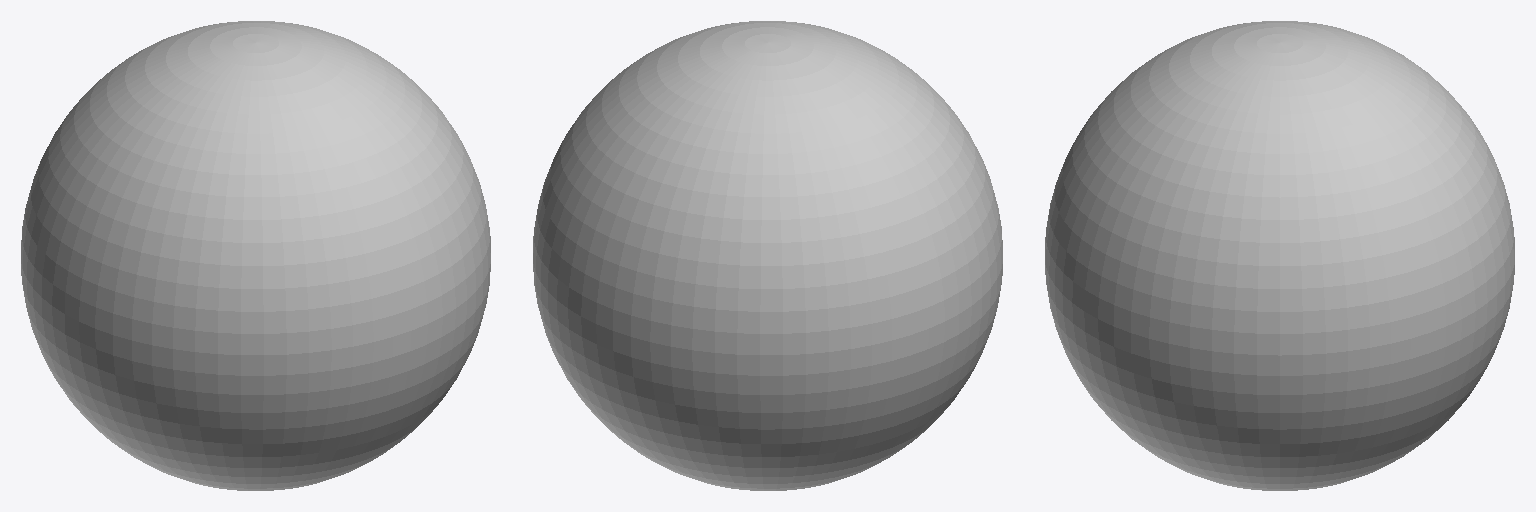
The model's file is 0Grav.obj.
3 renders of one model, left to right at view 1: azimuth 30°, elevation 25°; view 2: azimuth 150°, elevation 25°; view 3: azimuth 270°, elevation 25°, orthographic.
Visible parts, largest first — view 1: InterpActor_2; view 2: InterpActor_2; view 3: InterpActor_2.
Part boxes in pixels (x1,y1,x2,y2): InterpActor_2: (21,21,490,490); InterpActor_2: (533,21,1002,490); InterpActor_2: (1045,21,1514,490).
Size of the model in its own units: 819200 by 819200 by 819200.